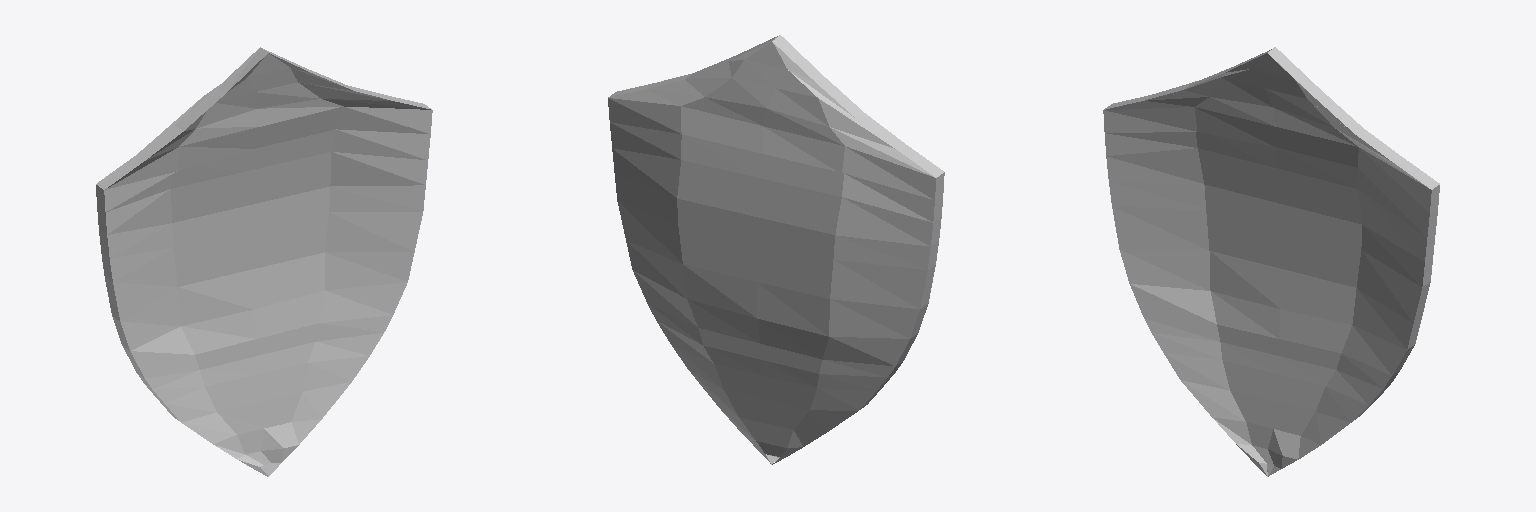
The model's file is escudolisto.obj.
3 renders of one model, left to right at view 1: azimuth 30°, elevation 25°; view 2: azimuth 150°, elevation 25°; view 3: azimuth 330°, elevation 25°, orthographic.
Parts seen in each view (by area): view 1: Cubo; view 2: Cubo; view 3: Cubo.
Boxes of the visible parts, x1=… form: Cubo: x1=96, y1=47, x2=432, y2=476; Cubo: x1=608, y1=35, x2=944, y2=464; Cubo: x1=1103, y1=47, x2=1439, y2=476.
Bounding box in the file's own units: 10 × 12.35 × 1.32.